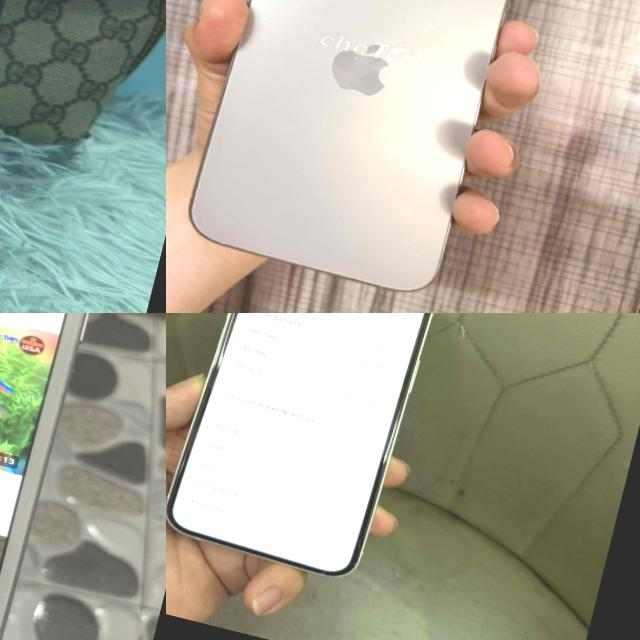gen_12_13: (166, 313, 465, 605)
gen_15: (166, 0, 565, 313)
gen_7_8: (0, 313, 132, 640)
